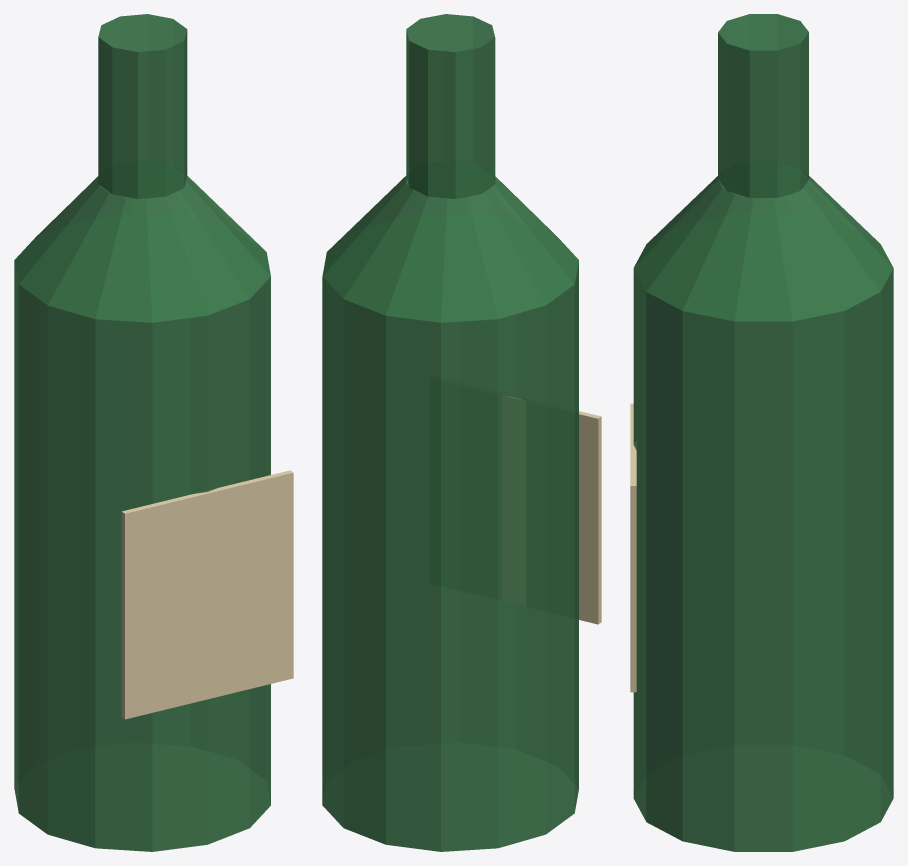
Rendered from bottle.fbx.
The picture shows the model from 3 angles, left to right: view 1: azimuth 30°, elevation 25°; view 2: azimuth 150°, elevation 25°; view 3: azimuth 270°, elevation 25°; orthographic projection.
Parts seen in each view (by area): view 1: bottle; view 2: bottle; view 3: bottle.
Part boxes in pixels (bbox=[...]): bottle: bbox=[14, 14, 293, 851]; bottle: bbox=[322, 14, 601, 851]; bottle: bbox=[630, 14, 893, 851].
Bounding box in the file's own units: 0.078 × 0.26 × 0.081.
